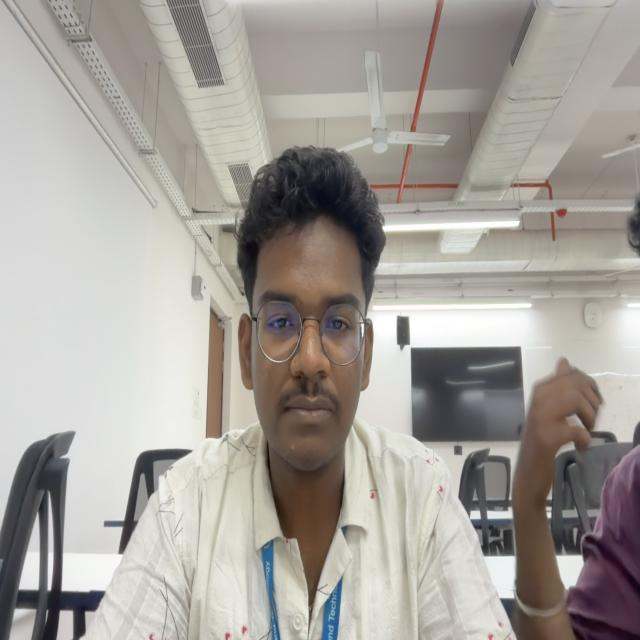sai: (238, 145, 386, 470)
